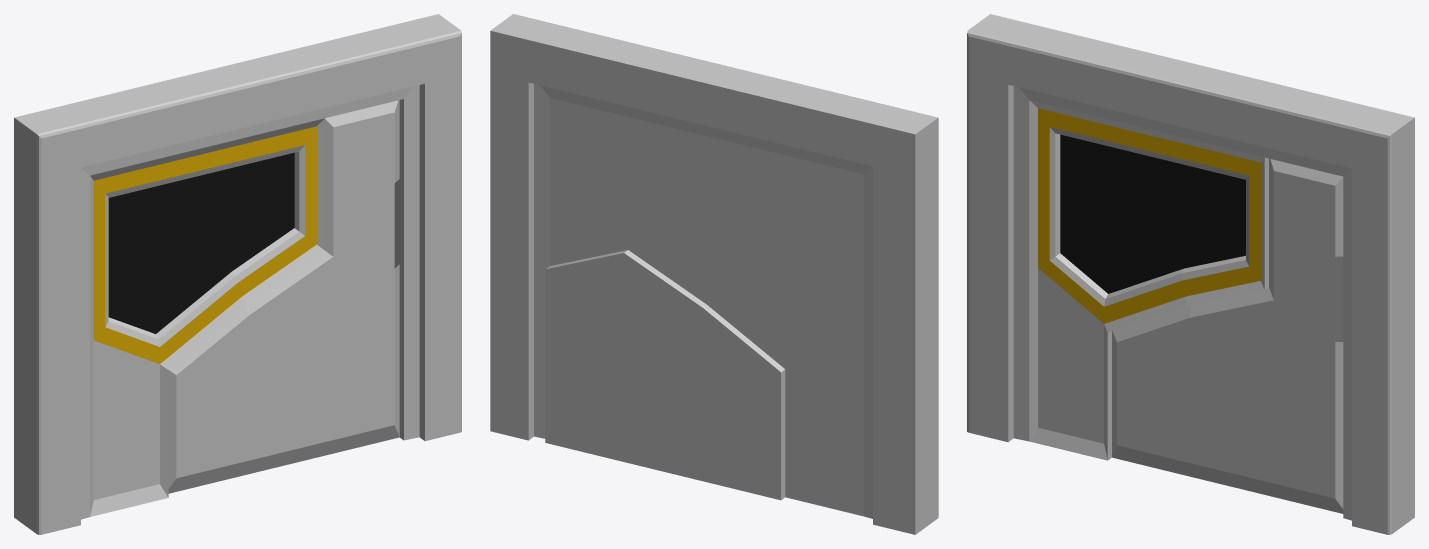
Rendered from SpaceShipBlastDoor.glb.
3 views of the same model, side by side, from view 1: azimuth 30°, elevation 25°; view 2: azimuth 150°, elevation 25°; view 3: azimuth 330°, elevation 25° (orthographic).
Parts seen in each view (by area): view 1: SHIP.002; view 2: SHIP.002; view 3: SHIP.002.
Part boxes in pixels (x1,y1,x2,y2): SHIP.002: (14, 14, 461, 534); SHIP.002: (490, 14, 938, 534); SHIP.002: (967, 14, 1414, 534).
Size of the model in its own units: 2.59 by 2.33 by 0.2596.
